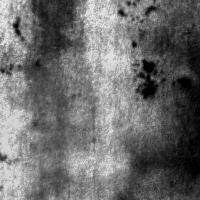patches: (0, 59, 137, 200), (91, 64, 200, 196), (21, 1, 82, 154), (0, 86, 85, 184), (123, 101, 200, 185), (130, 21, 200, 63), (23, 151, 71, 200), (136, 58, 160, 99), (6, 12, 27, 43), (172, 71, 194, 97)
